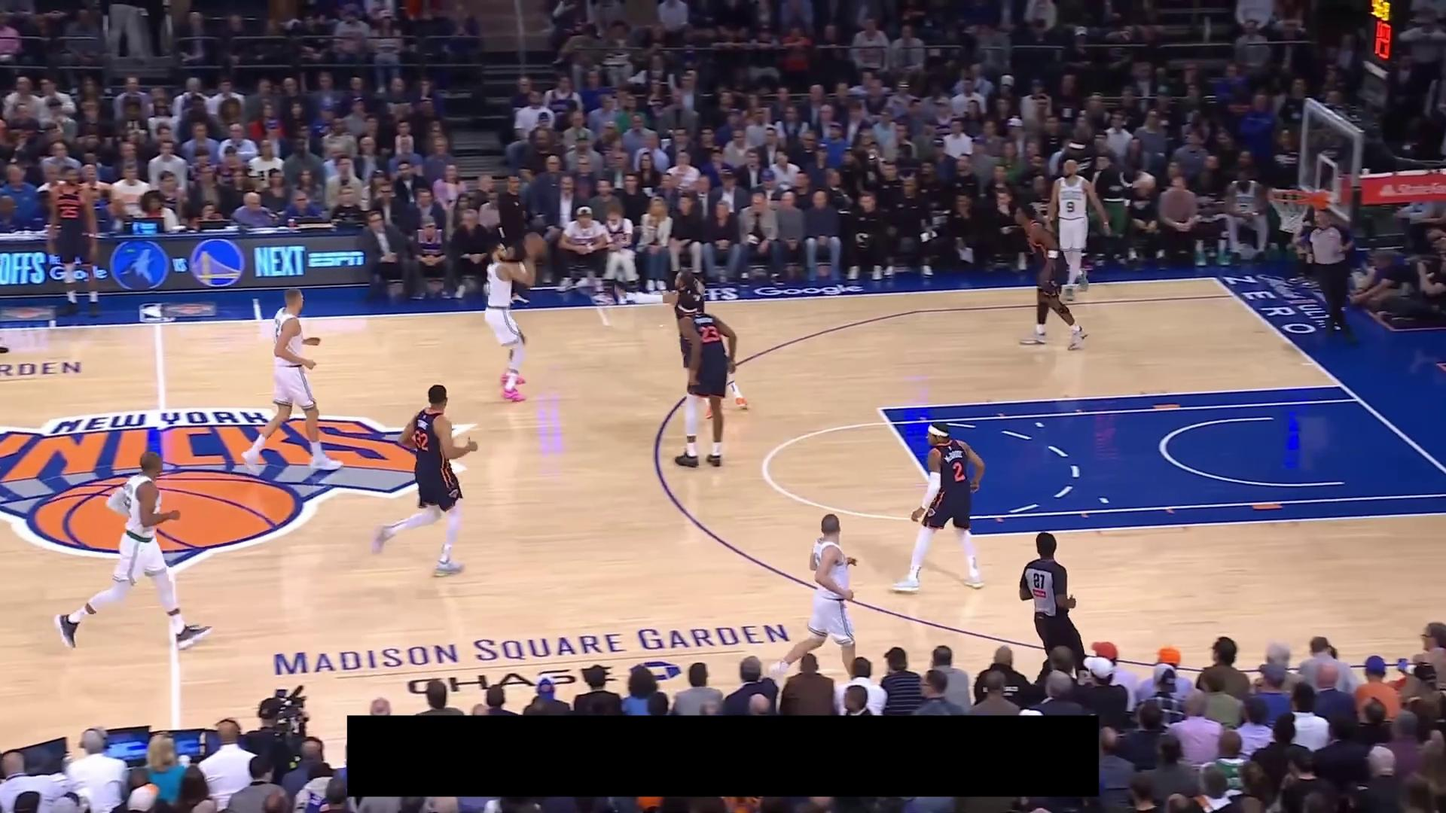ball: (523, 232, 546, 257)
number: (698, 324, 720, 343), (413, 429, 429, 451), (952, 461, 965, 483), (1065, 199, 1076, 214)
player: (53, 450, 216, 654), (371, 382, 479, 577), (239, 287, 345, 475), (766, 511, 865, 687), (889, 419, 987, 595), (667, 267, 750, 417), (1009, 202, 1090, 352), (671, 292, 737, 470), (1047, 158, 1113, 303)
player-in-possession: (482, 231, 547, 404)
referee: (1019, 531, 1085, 686), (1304, 208, 1357, 344)
rim: (1268, 188, 1313, 204)
